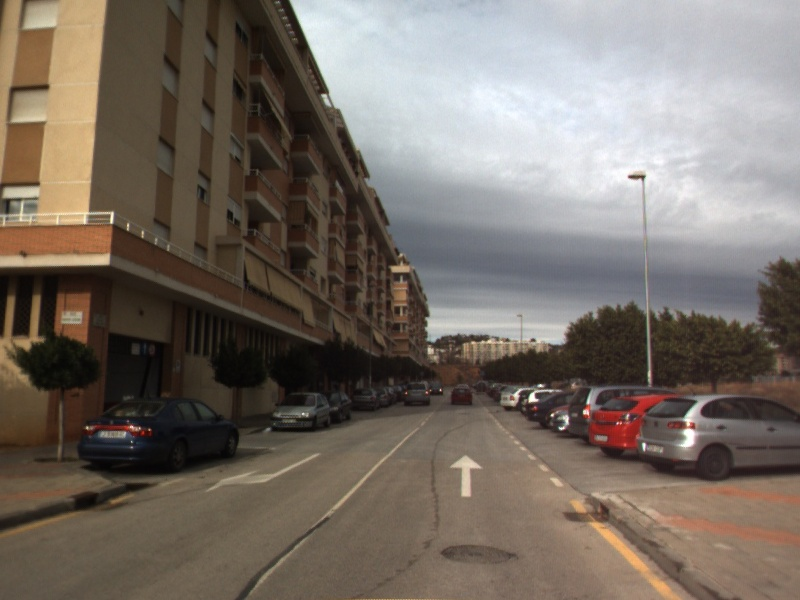STRAIGHT: (448, 453, 485, 499)
